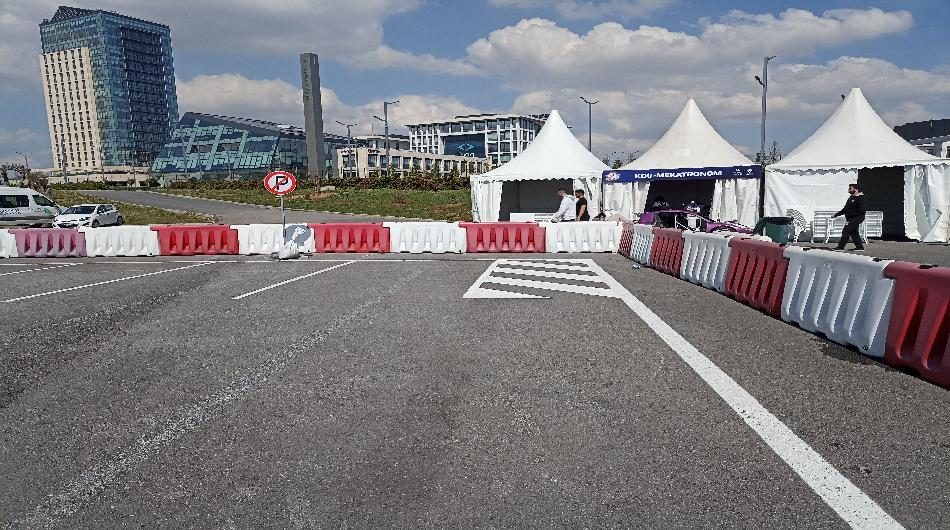park_yapilmaz_3: (264, 171, 297, 193)
park_yapilmaz_yerde: (465, 253, 631, 305)
